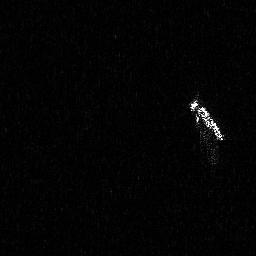ship: (188, 98, 224, 142)
